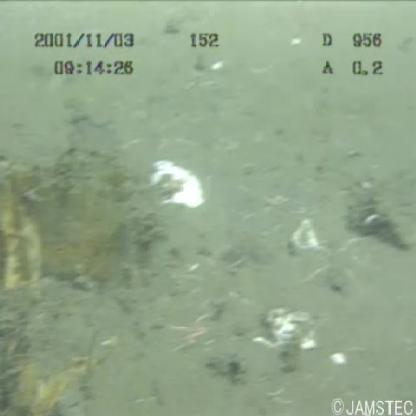Bio: (171, 319, 219, 350)
Rác: (2, 178, 100, 416)
